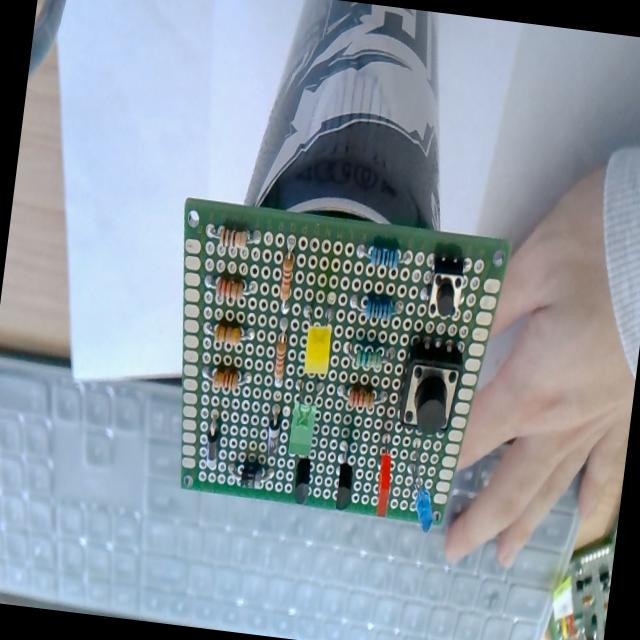diode: (226, 456, 279, 491), (198, 414, 224, 476), (262, 401, 284, 456)
led: (398, 448, 442, 536), (296, 301, 336, 377), (286, 378, 320, 459), (369, 438, 396, 522)
resistor: (273, 229, 301, 310), (344, 288, 402, 325), (351, 240, 412, 274), (205, 220, 261, 256), (342, 335, 392, 375), (197, 361, 254, 396), (332, 378, 389, 412), (268, 318, 292, 389), (203, 271, 256, 303), (202, 314, 256, 344)
switch: (394, 341, 462, 436), (416, 248, 468, 329)
transistor: (330, 439, 360, 508), (284, 451, 316, 510)
